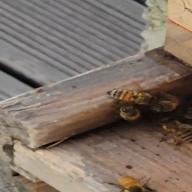Bee: (96, 84, 186, 116), (90, 163, 186, 192)
